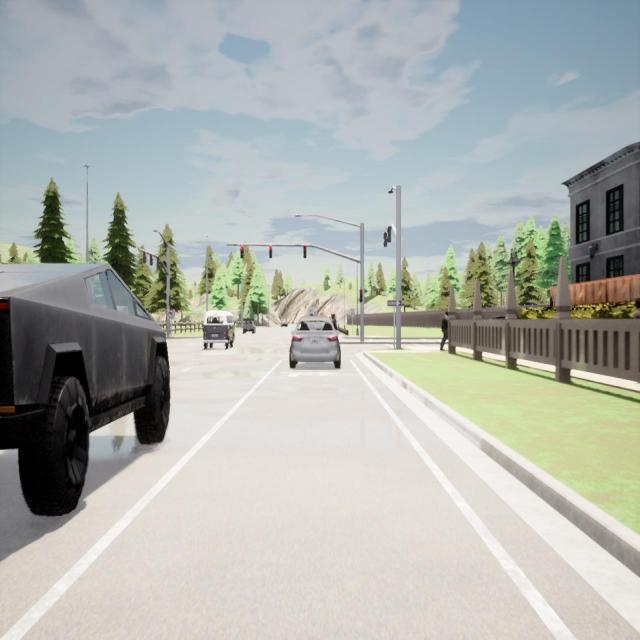Pedestrian: (439, 310, 448, 351), (629, 293, 640, 318), (331, 313, 339, 329)
Traffic_Signs: (387, 300, 401, 306), (168, 310, 174, 318), (350, 309, 354, 315)
Vehicle: (0, 263, 170, 515), (290, 316, 342, 369), (202, 310, 235, 349), (242, 321, 255, 334), (280, 322, 288, 327)
traffic_light: (387, 225, 391, 242), (383, 231, 387, 247), (240, 244, 244, 258), (303, 244, 307, 258), (143, 251, 147, 263), (150, 254, 154, 265), (269, 245, 272, 259), (156, 257, 160, 267), (360, 289, 362, 303)
